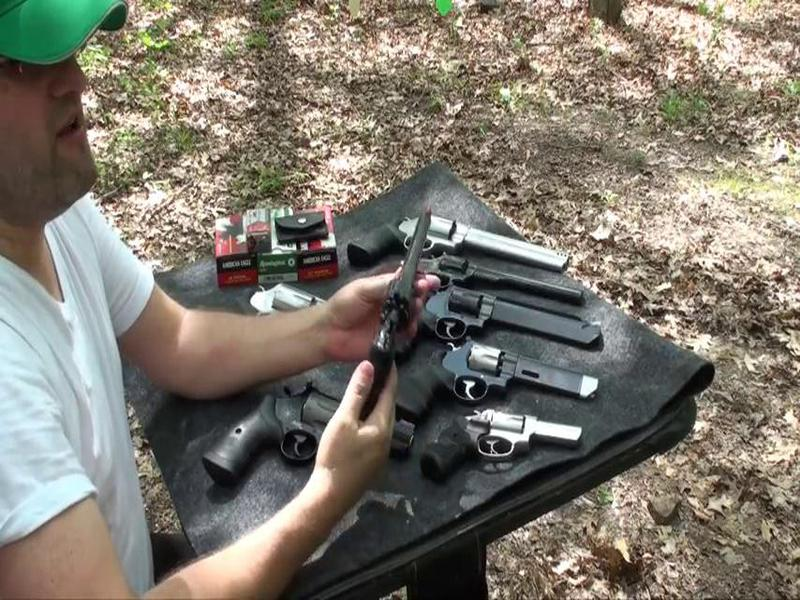Revolver: (368, 195, 449, 376)
